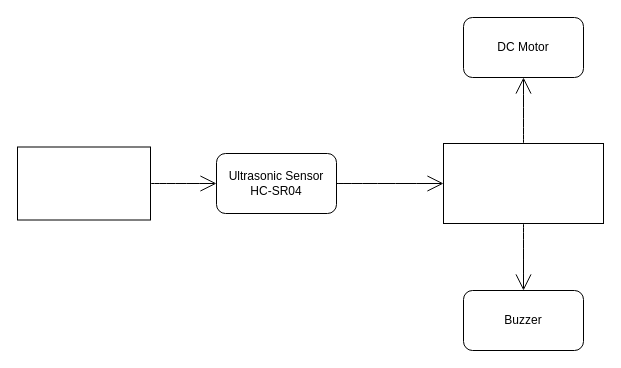
The diagram is 621 pixels wide and 368 high, and some of its shapes have lost their labels. The box of each missing label's shape, as (x1, y1, x2, y2) in pixels:
Atmega328: (442, 142, 604, 224)
Vehicle: (16, 146, 150, 220)
